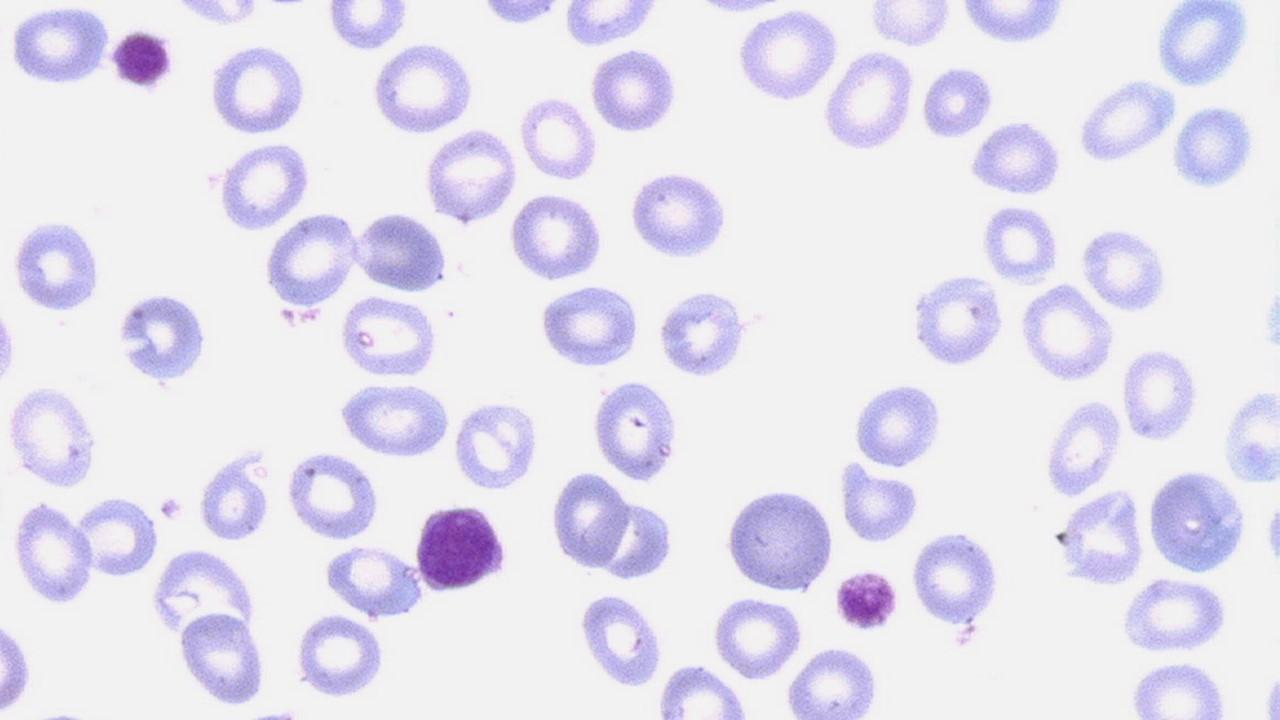Platelets: (114, 288, 212, 387), (832, 567, 902, 634), (109, 25, 176, 95), (950, 617, 982, 651), (156, 493, 186, 522), (247, 706, 304, 720)
RBC: (149, 545, 264, 694), (720, 482, 838, 596), (1145, 464, 1247, 576), (732, 3, 840, 107), (2, 383, 103, 491), (369, 39, 477, 138), (1015, 282, 1117, 386), (260, 207, 358, 315), (206, 38, 309, 140), (820, 46, 916, 155), (627, 165, 733, 263), (907, 269, 1009, 370), (1072, 73, 1178, 169), (1052, 484, 1148, 590), (908, 526, 1006, 628), (8, 214, 105, 317), (654, 286, 758, 382), (1117, 572, 1233, 658), (420, 127, 520, 226), (214, 136, 313, 236), (9, 498, 98, 608), (506, 190, 609, 285), (176, 606, 269, 710), (590, 377, 682, 482), (536, 281, 642, 372), (1151, 1, 1255, 92), (2, 4, 113, 89), (536, 282, 642, 370), (284, 446, 381, 542), (850, 377, 948, 471), (336, 380, 452, 459), (338, 292, 442, 380), (576, 589, 666, 690), (450, 396, 541, 495), (1041, 394, 1125, 500), (964, 116, 1069, 199), (708, 593, 806, 681), (588, 44, 680, 137), (1168, 99, 1258, 194), (292, 612, 388, 700), (548, 467, 630, 570), (1119, 344, 1203, 444), (1078, 223, 1170, 314), (352, 209, 449, 295), (320, 540, 423, 620), (782, 642, 884, 720), (196, 447, 275, 546), (592, 494, 674, 586), (836, 461, 924, 546), (518, 93, 599, 185), (76, 494, 159, 582), (975, 202, 1061, 285), (1125, 658, 1231, 718), (1220, 384, 1280, 484), (917, 65, 994, 142), (654, 660, 752, 717), (954, 1, 1069, 48), (558, 2, 670, 48), (323, 1, 413, 54), (864, 1, 952, 47), (0, 615, 36, 717), (166, 0, 269, 30), (472, 0, 566, 28), (1260, 282, 1280, 362), (0, 303, 18, 391)
WBC: (412, 499, 512, 594)
